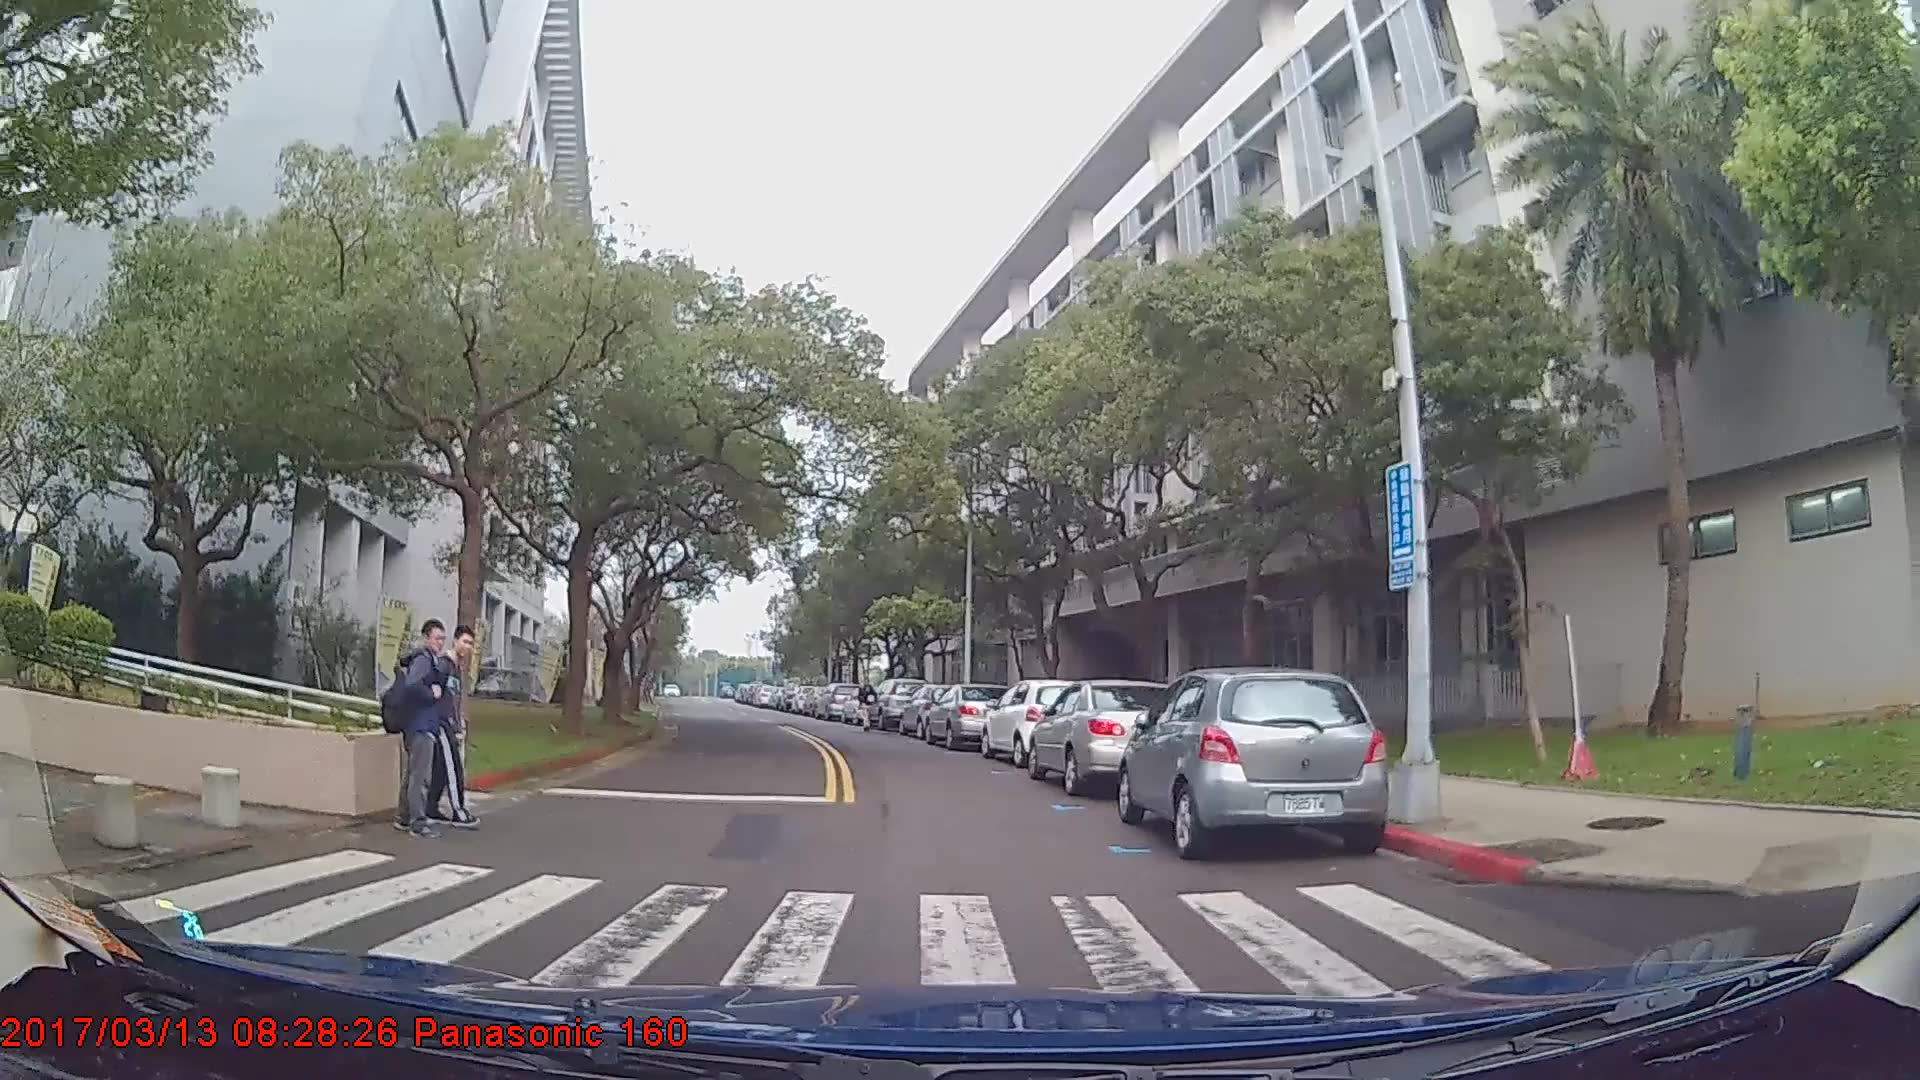pedestrian: (369, 623, 456, 844), (401, 629, 492, 837), (859, 678, 881, 735)
vehicle: (1119, 663, 1393, 862), (1026, 677, 1195, 796), (981, 678, 1092, 766), (923, 680, 1014, 749), (899, 680, 972, 739), (862, 675, 931, 730), (814, 680, 868, 722)
